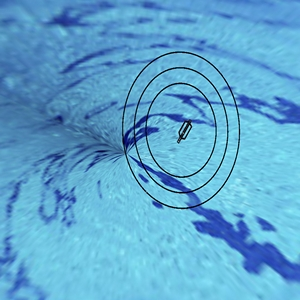circle: (115, 39, 248, 215)
submarine: (173, 113, 195, 151)
